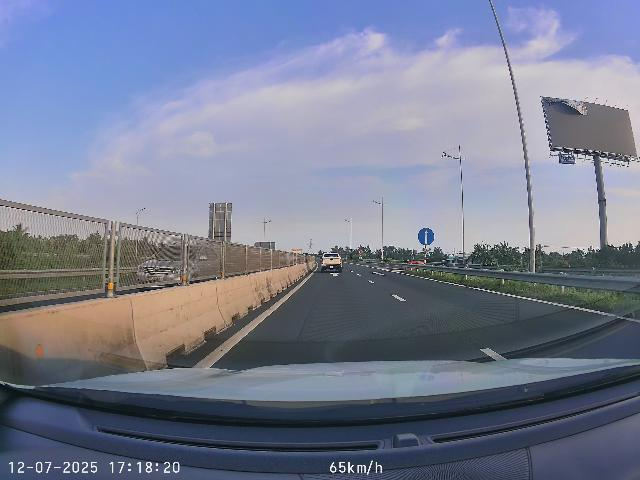301a-cac-xe-chi-duoc-di-thang: (418, 227, 435, 246)
